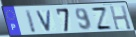7: (55, 8, 71, 33)
9: (75, 7, 93, 31)
H: (108, 5, 133, 31)
I: (24, 8, 38, 34)
V: (35, 9, 53, 33)
Z: (90, 7, 114, 31)
